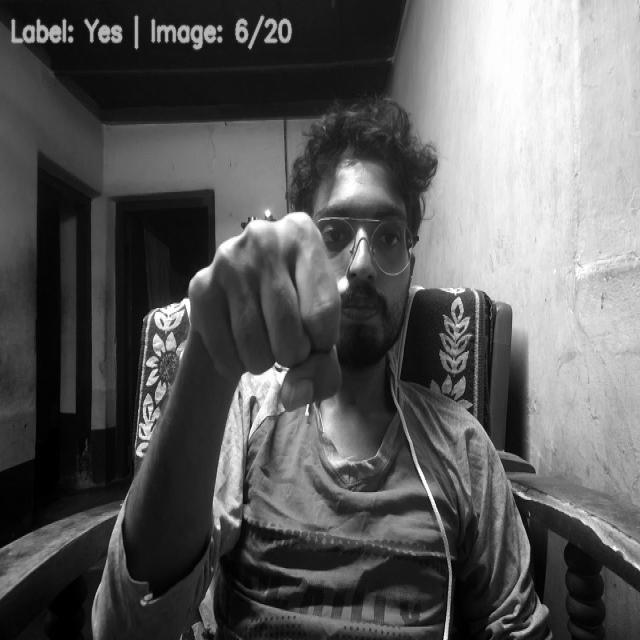Yes: (192, 210, 345, 412)
